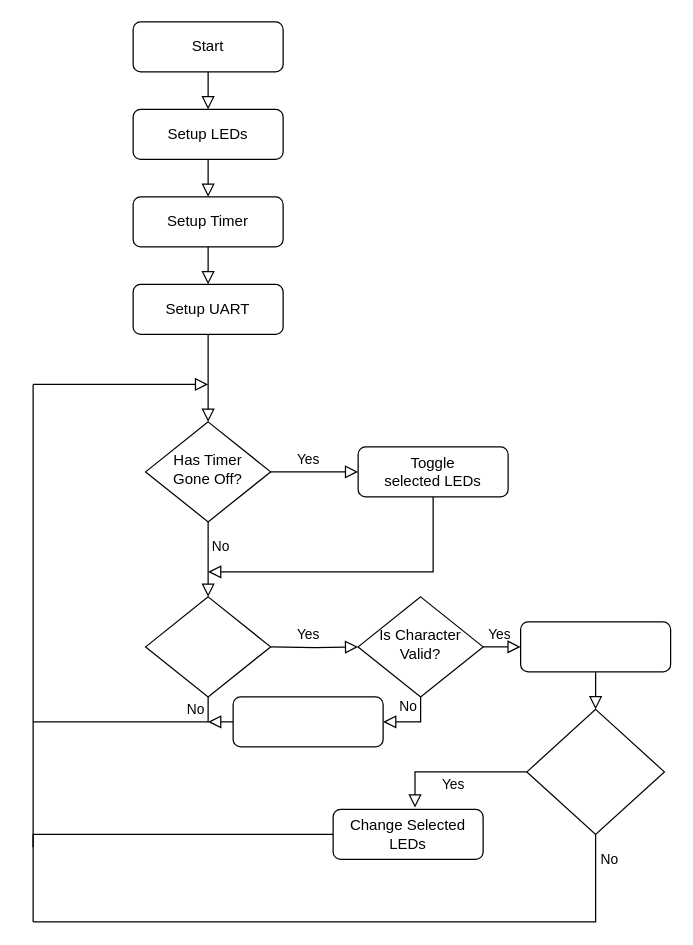
Image size: 693x945. Some labels were removed from this diagram. The shapes that lost their labels are listed below. From the top down, each one's box as (x1, y1, x2, y2) in pixels, then its label:
(144, 596, 271, 697): Is There a Character on UART?
(519, 621, 671, 672): Add Character to Buffer
(232, 696, 383, 747): Discard Character
(526, 708, 664, 834): Does Buffer Contain a Valid Sequence?
